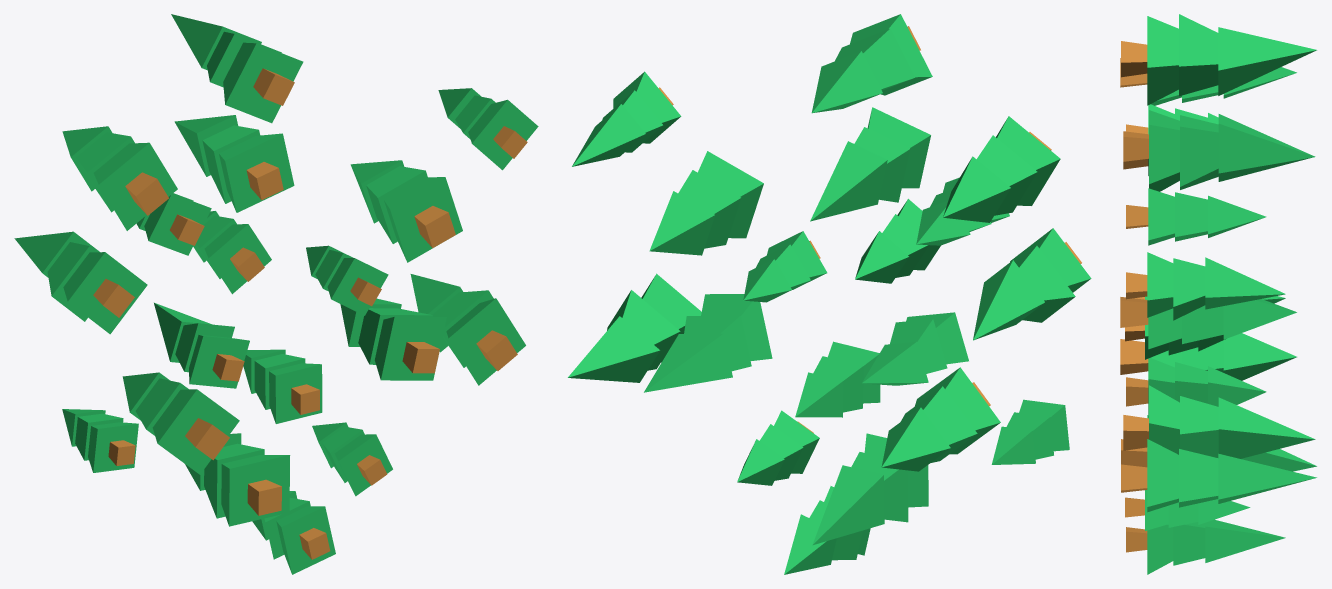
File: nature_taigaRiverDelta.fbx
3 views of the same model, side by side, from view 1: azimuth 30°, elevation 25°; view 2: azimuth 150°, elevation 25°; view 3: azimuth 270°, elevation 25° (orthographic). The views are drawn at different scales.
Parts seen in each view (by area): view 1: Taiga; view 2: Taiga; view 3: Taiga.
Part boxes in pixels (left/top/right/bottom): Taiga: left=14, top=14, right=538, bottom=574; Taiga: left=568, top=14, right=1091, bottom=574; Taiga: left=1120, top=14, right=1316, bottom=574.
Bounding box in the file's own units: 176 × 193 × 65.
